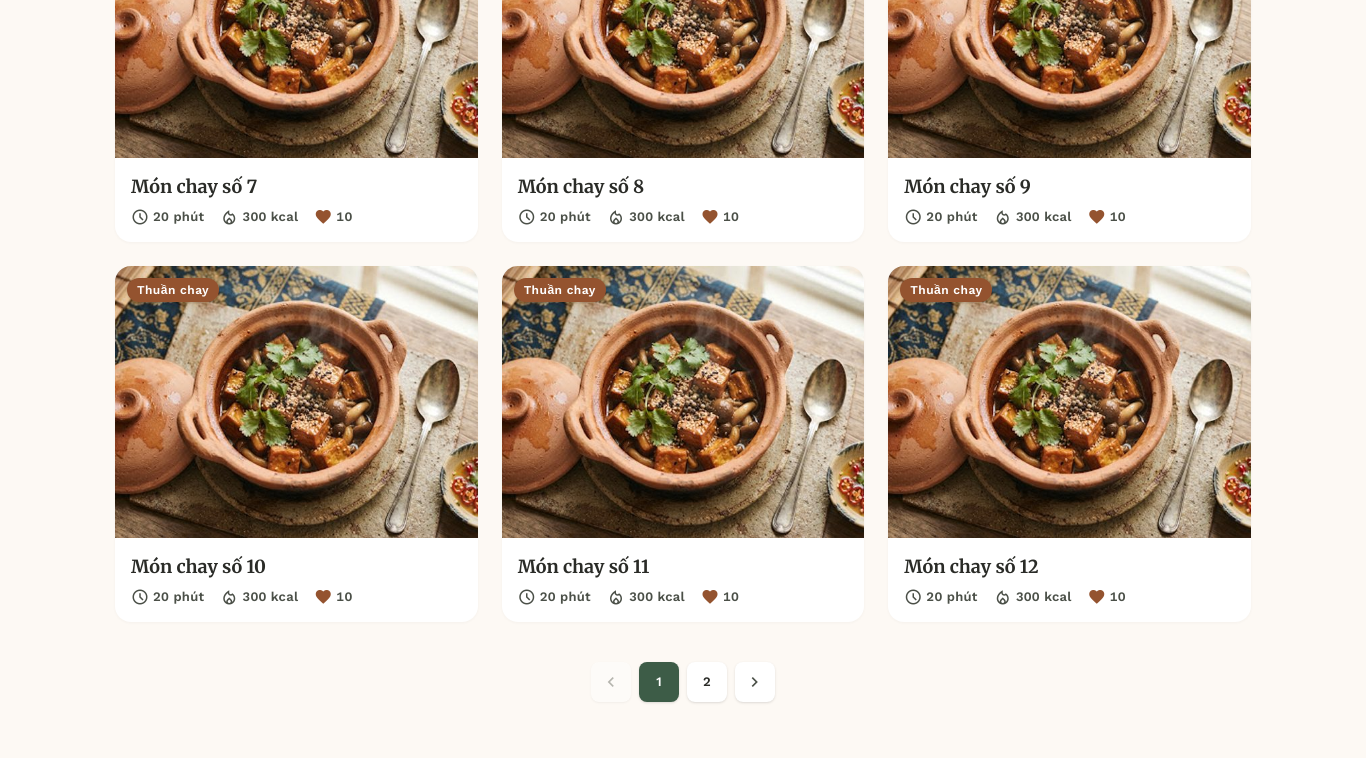
Test: RecipeList (SCR-11) › bấm số trang thì tải trang đó
This screenshot has width=1366, height=758.
(page scrolled)
Click the button named "Trang 2": [707, 682] box [687,662,727,702]
(page scrolled)
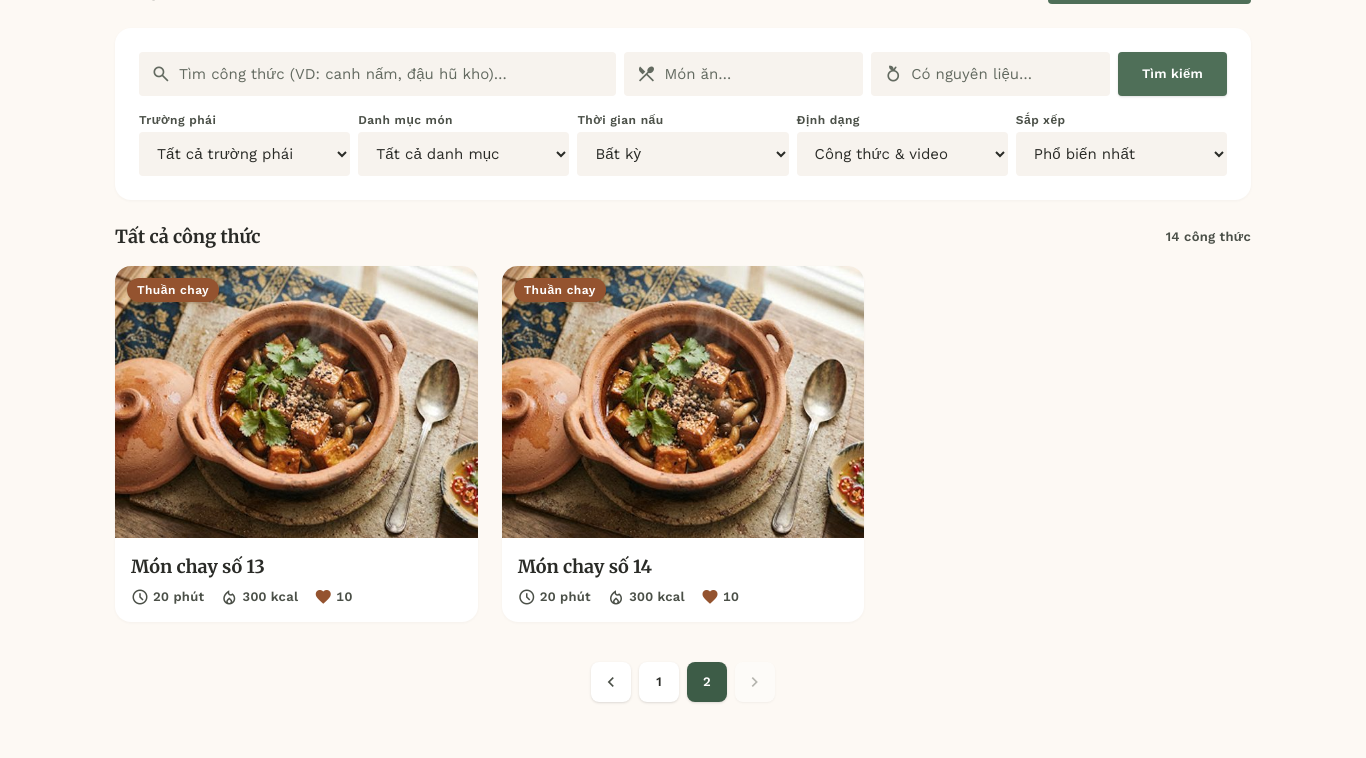
Result: the link "Món chay số 14" is shown at [518,555,652,578]
